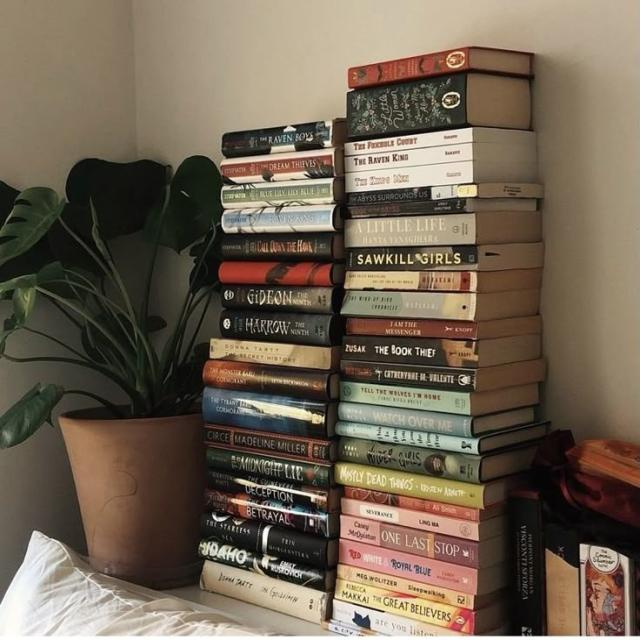book: (340, 513, 480, 574), (333, 540, 478, 598), (329, 580, 475, 635), (328, 462, 484, 513), (348, 46, 533, 88), (198, 563, 327, 622), (331, 437, 480, 486), (344, 211, 541, 248), (340, 380, 538, 416), (204, 515, 328, 570), (201, 392, 329, 444), (342, 335, 541, 368), (201, 539, 328, 589), (343, 289, 539, 320), (205, 445, 332, 491), (201, 356, 326, 402), (346, 242, 544, 271), (207, 496, 328, 542), (345, 127, 536, 156), (221, 118, 346, 158), (206, 476, 327, 514), (336, 424, 480, 454), (340, 164, 474, 193), (215, 315, 334, 347), (340, 184, 478, 209), (221, 287, 342, 314), (222, 208, 334, 237), (225, 177, 333, 207), (222, 157, 333, 184), (218, 261, 331, 287), (222, 236, 333, 258)
